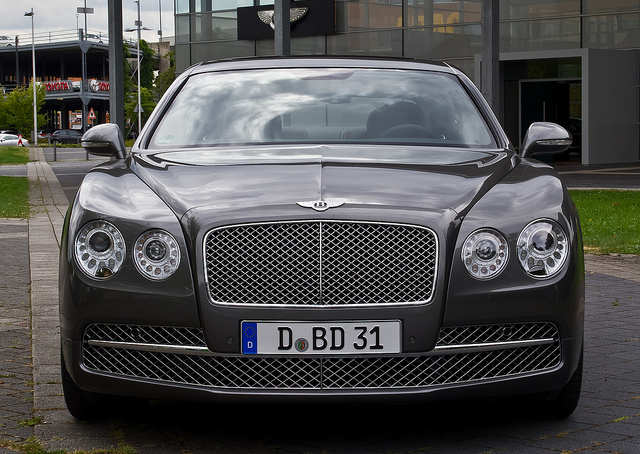number_plate: (237, 317, 408, 357)
